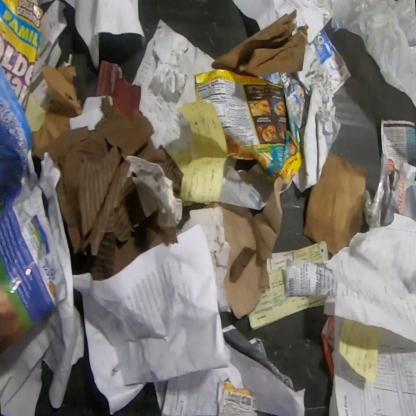cardboard: (44, 92, 184, 282), (194, 68, 302, 186), (302, 150, 367, 255), (210, 9, 310, 77), (31, 61, 84, 162)
rigid_plastic: (362, 152, 398, 230)
soft_plastic: (321, 0, 415, 113)
